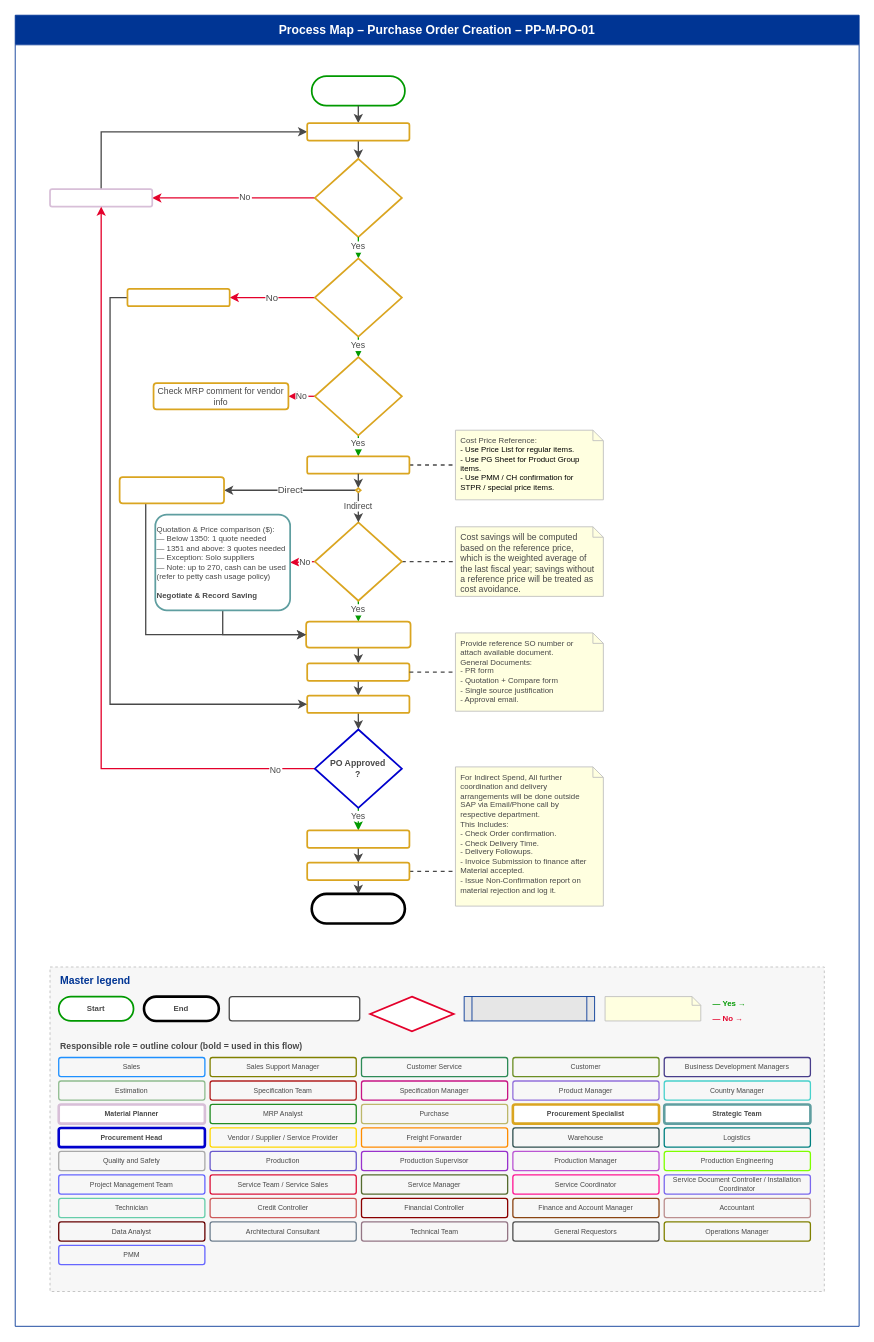
The diagram is 874 pixels wide and 1342 high, and some of its shapes have lost their labels. The shapes that lost their labels are listed below. From the top down, each one's centre as x and y in pixels, then its label:
At point 357,90: "PO Creation".
At point 358,131: "Re-evaluate PR".
At point 101,197: "Revise PR".
At point 358,197: "Complete".
At point 178,297: "Process ICPO".
At point 358,297: "External Vendor?".
At point 358,396: "Vendor Assigned ?".
At point 358,464: "Evaluate Price".
At point 171,490: "Refer contract in SAP/ Strategic team".
At point 358,561: "Price <1350 $".
At point 358,634: "Update Price, Material & Vendor details".
At point 358,671: "Update reference".
At point 358,703: "Save PO".
At point 358,838: "PO to vendor".
At point 358,870: "OC from Vendor".
At point 358,908: "OC Verification".
At point 294,1008: "Activity (outline = role)".
At point 411,1013: "Decision".
At point 529,1008: "Linked process (Ref ID)".
At point 652,1008: "Note / checklist".
